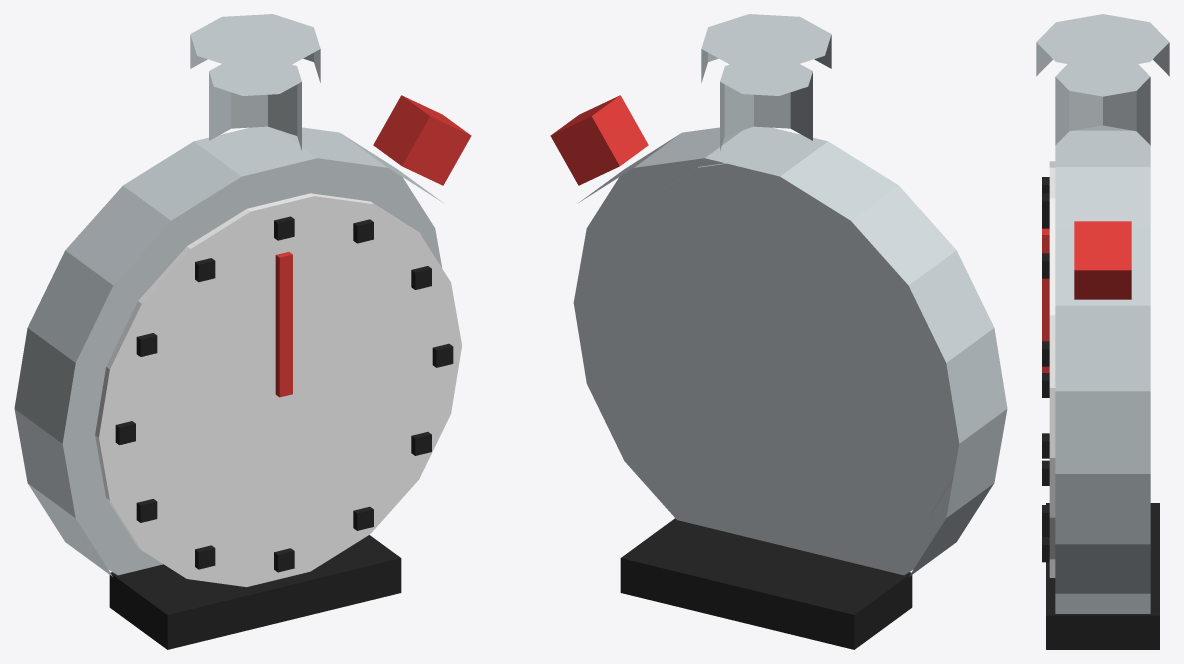
The model's file is stoppur.glb.
3 renders of one model, left to right at view 1: azimuth 30°, elevation 25°; view 2: azimuth 150°, elevation 25°; view 3: azimuth 270°, elevation 25°, orthographic.
Visible parts, largest first — view 1: stoppur; view 2: stoppur; view 3: stoppur.
Part boxes in pixels (x1,y1,x2,y2): stoppur: (14,14,471,649); stoppur: (550,14,1007,649); stoppur: (1036,14,1169,649).
Bounding box in the file's own units: 0.26 × 0.32 × 0.07.
